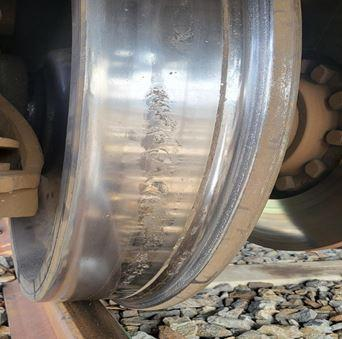Shelling: (138, 82, 176, 230)
